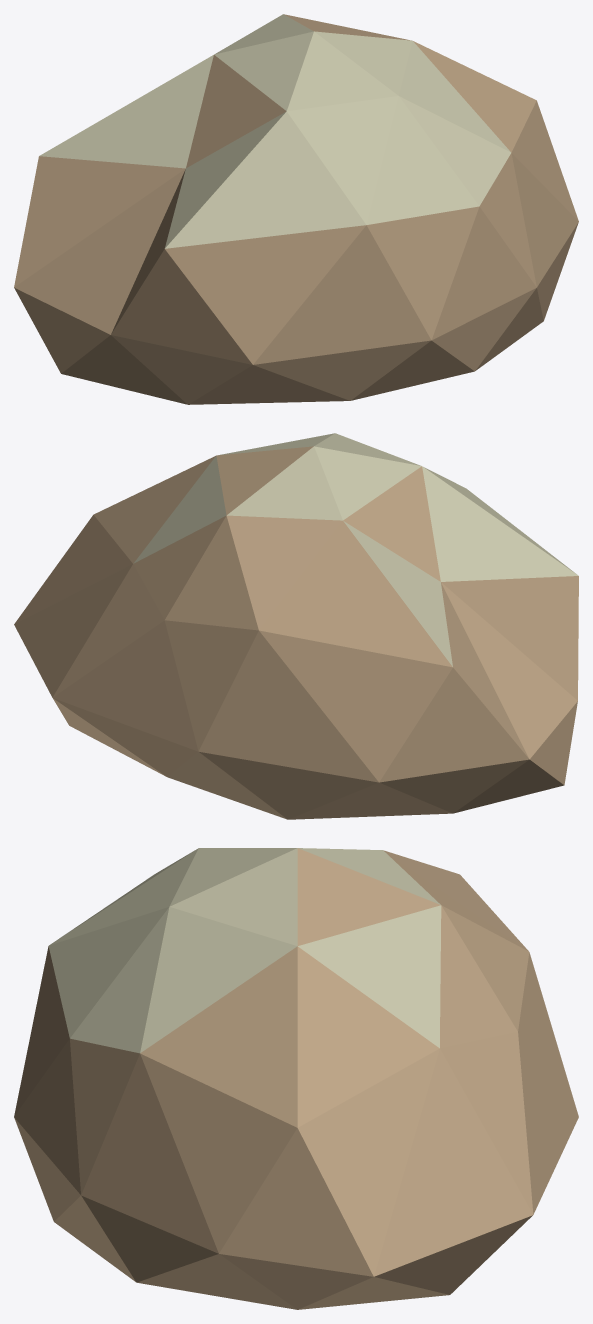
File: rock0.glb
3 renders of one model, top to bottom at view 1: azimuth 30°, elevation 25°; view 2: azimuth 150°, elevation 25°; view 3: azimuth 270°, elevation 25°, orthographic. The views are drawn at different scales.
Parts seen in each view (by area): view 1: Sandstone; view 2: Sandstone; view 3: Sandstone.
Boxes of the visible parts, bbox=[...] form: Sandstone: bbox=[14, 14, 578, 404]; Sandstone: bbox=[14, 433, 578, 819]; Sandstone: bbox=[14, 848, 578, 1309].
Size of the model in its own units: 2.12 by 1.07 by 1.62.
